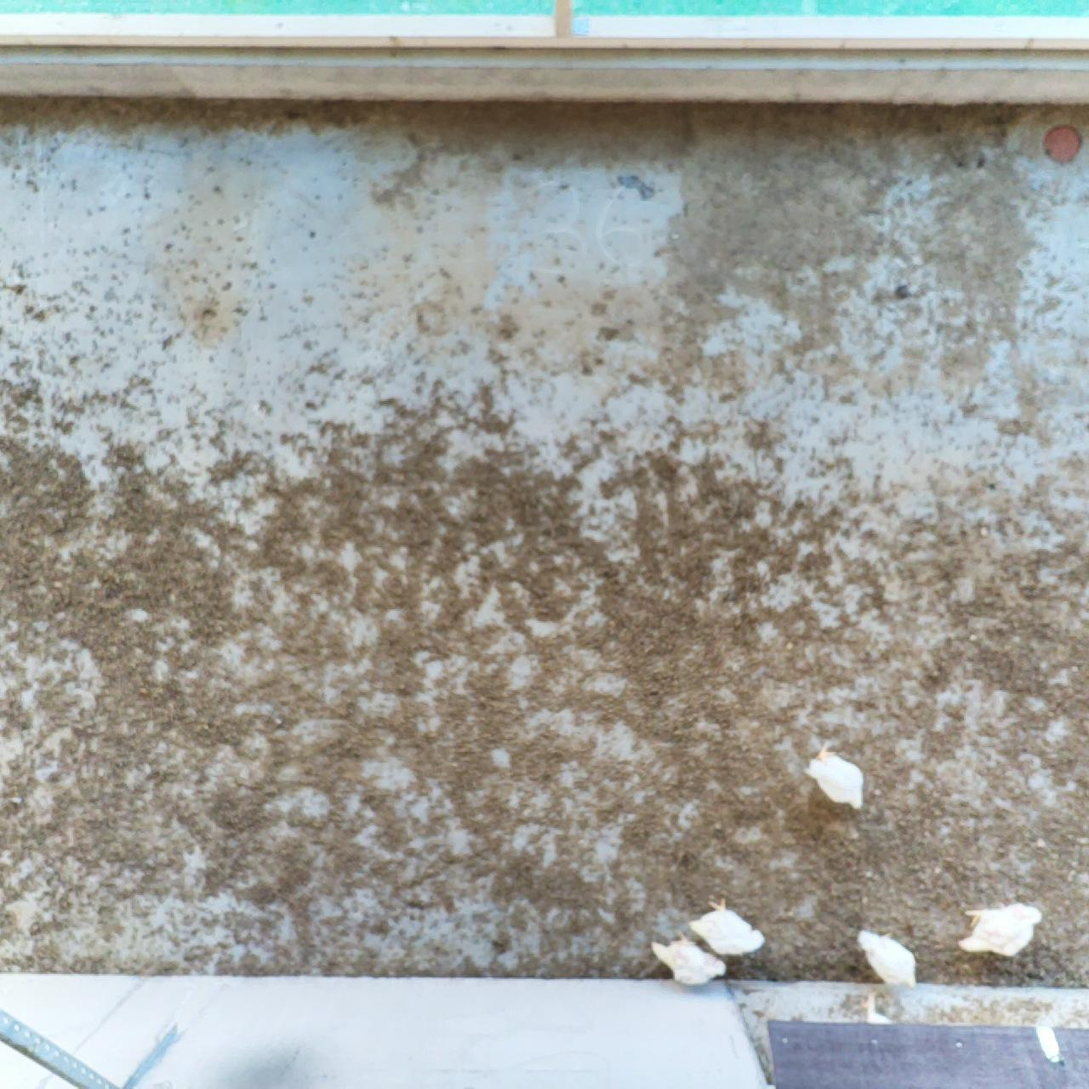chicken: (679, 897, 769, 961), (958, 898, 1048, 959), (852, 920, 920, 995), (648, 931, 731, 991), (805, 745, 867, 813)
